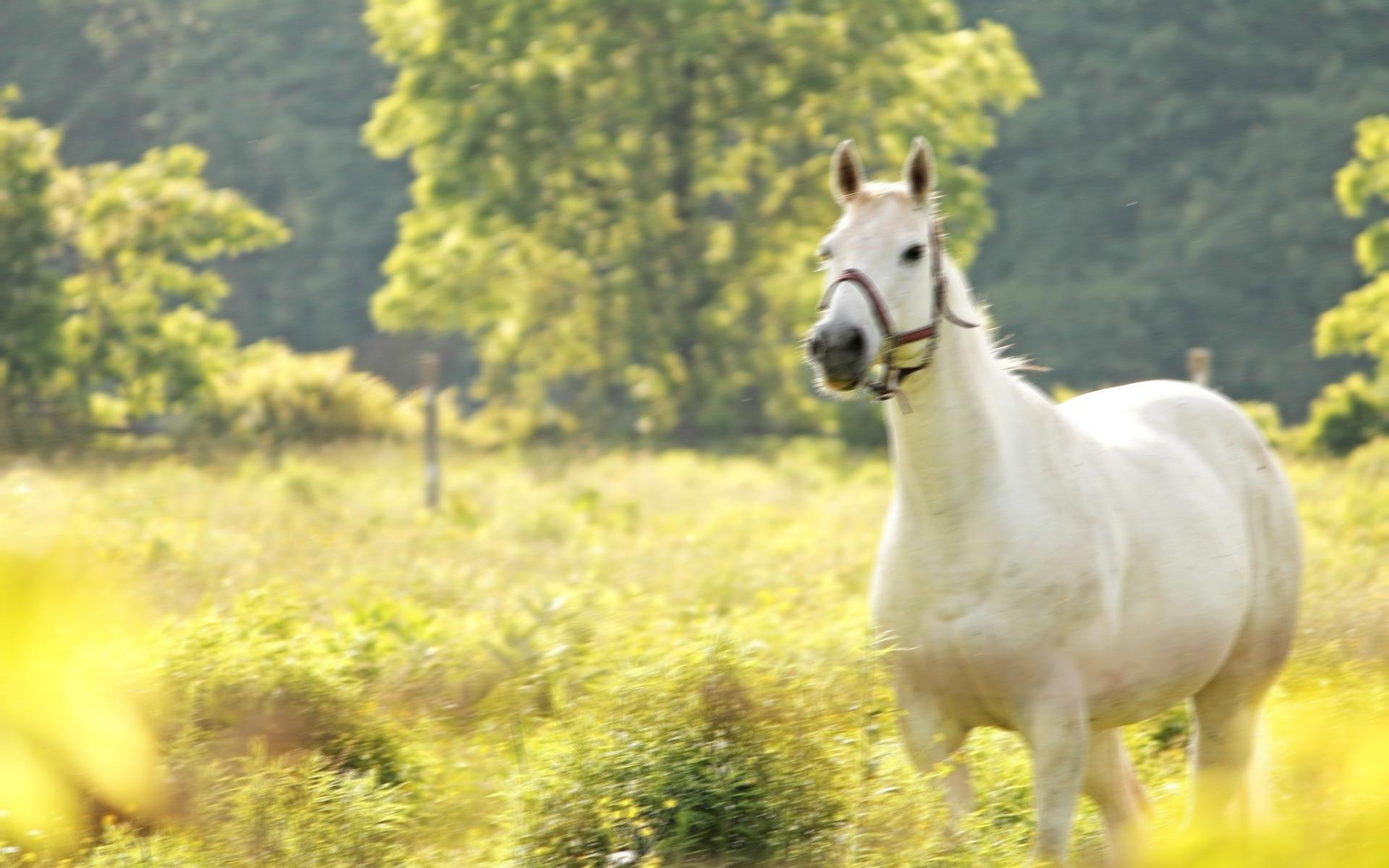horse: (793, 122, 1316, 868)
